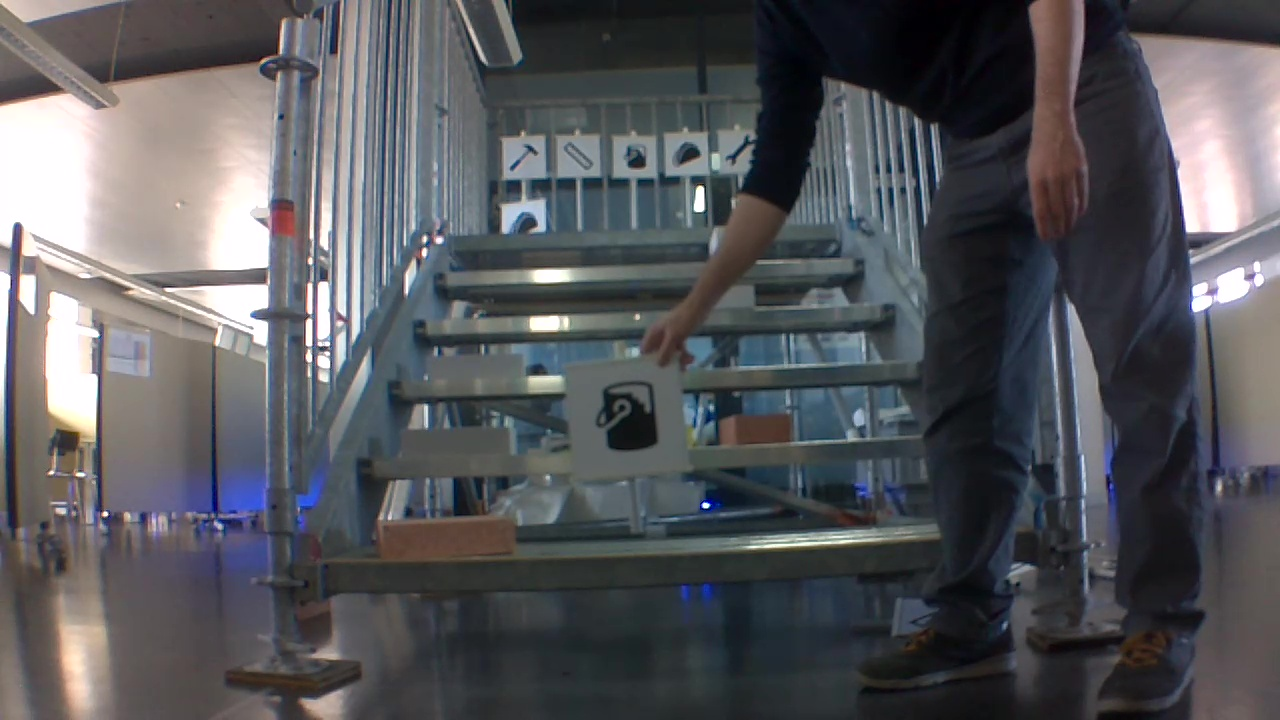brick: (378, 515, 513, 561), (399, 429, 515, 457), (427, 356, 523, 382), (719, 414, 794, 445)
bucket: (587, 374, 670, 460), (617, 139, 649, 173)
edge: (325, 529, 1050, 593)
hammer: (504, 139, 538, 177)
ruler: (558, 140, 596, 174)
taco: (669, 137, 701, 169), (502, 207, 542, 232)
wrench: (721, 129, 754, 169)
